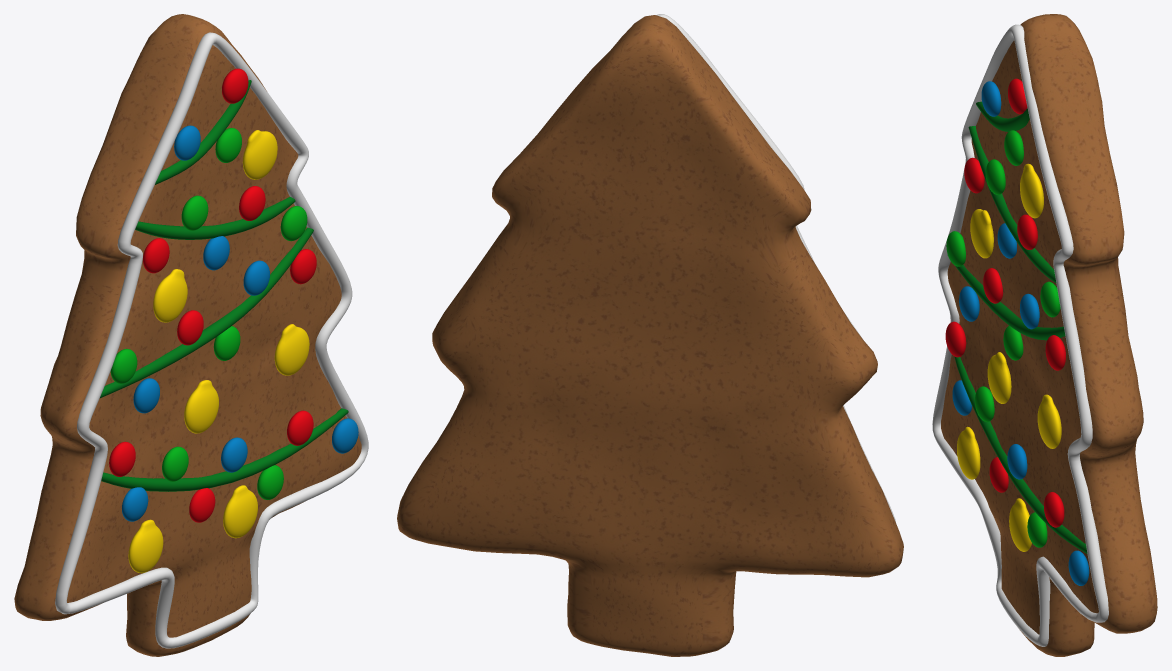
The picture shows the model from 3 angles, left to right: view 1: azimuth 30°, elevation 25°; view 2: azimuth 150°, elevation 25°; view 3: azimuth 270°, elevation 25°; orthographic projection.
Parts seen in each view (by area): view 1: Plane_1, Simple_GP_Layer_4, Simple_GP_Layer.004_5, Roundcube.028_9, Roundcube.007_6, Roundcube.014_8, Roundcube.012_7; view 2: Plane_1, Simple_GP_Layer_4; view 3: Plane_1, Simple_GP_Layer_4, Roundcube.028_9, Simple_GP_Layer.004_5, Roundcube.007_6, Roundcube.012_7, Roundcube.014_8.
Boxes of the visible parts, <box> form: Plane_1: <box>14,14,361,656</box>; Simple_GP_Layer_4: <box>55,32,368,648</box>; Simple_GP_Layer.004_5: <box>100,80,348,491</box>; Roundcube.028_9: <box>128,130,309,573</box>; Roundcube.007_6: <box>109,68,316,522</box>; Roundcube.014_8: <box>122,125,358,521</box>; Roundcube.012_7: <box>110,128,307,499</box>; Plane_1: <box>397,15,903,656</box>; Simple_GP_Layer_4: <box>656,14,896,523</box>; Plane_1: <box>941,14,1157,656</box>; Simple_GP_Layer_4: <box>932,24,1108,646</box>; Roundcube.028_9: <box>957,163,1061,551</box>; Simple_GP_Layer.004_5: <box>947,101,1087,553</box>; Roundcube.007_6: <box>945,78,1065,527</box>; Roundcube.012_7: <box>946,130,1060,547</box>; Roundcube.014_8: <box>952,81,1089,585</box>.
Size of the model in its own units: 0.1584 by 0.2239 by 0.0741.
Materials: 7 (1 with a texture image).
